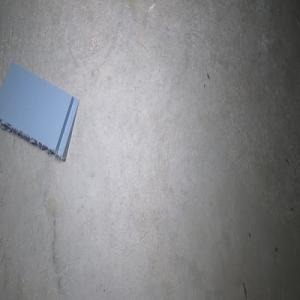PlasticPart: (0, 59, 79, 161)
